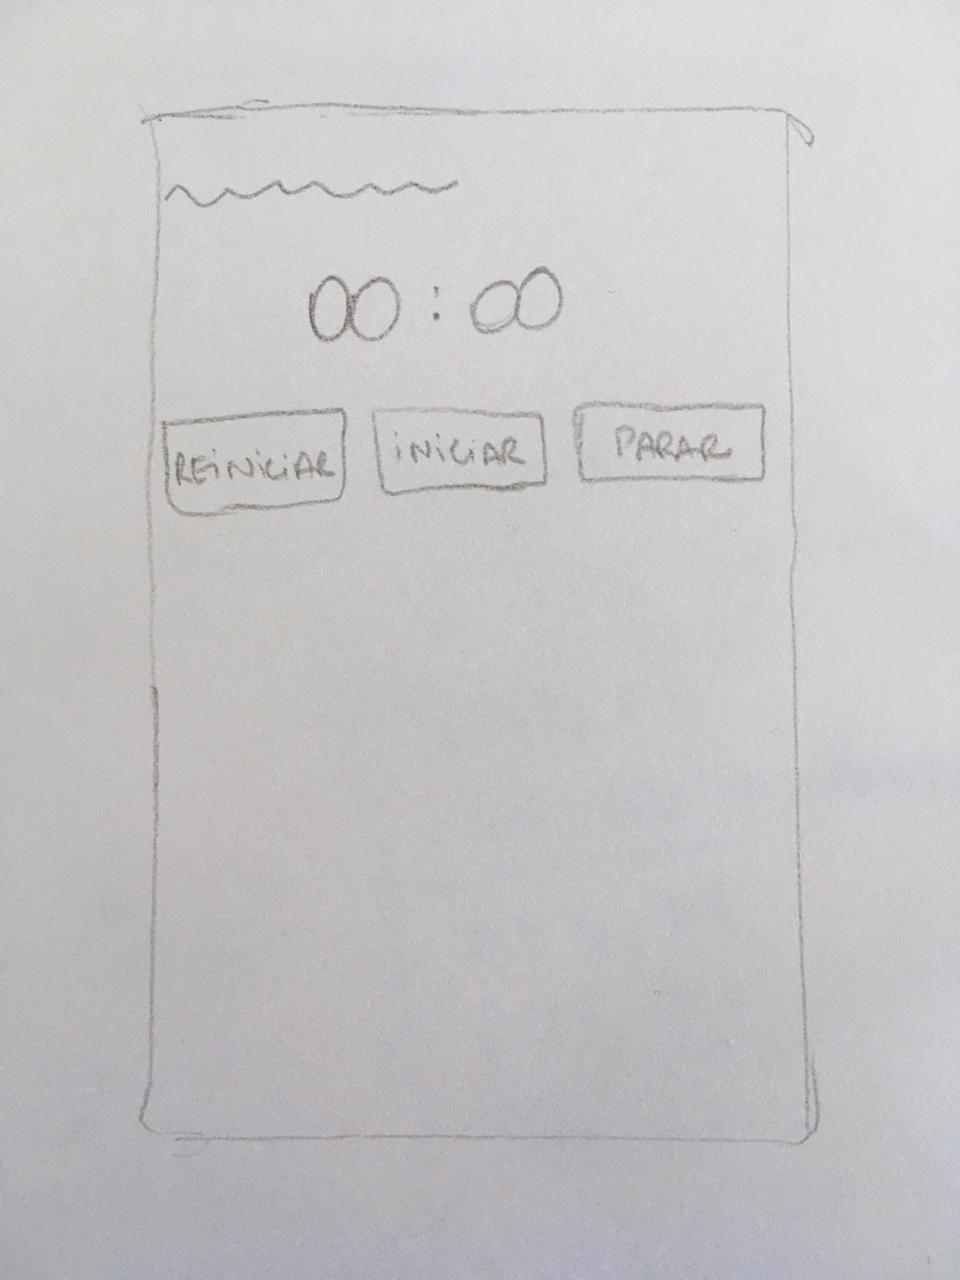Button: (160, 408, 348, 516), (369, 406, 550, 496), (573, 401, 766, 483)
Label: (308, 267, 566, 344), (164, 178, 458, 211)
Screen: (141, 101, 820, 1146)
